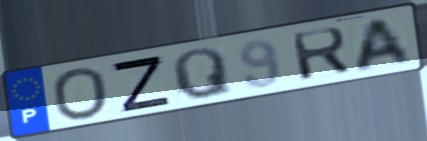9: (237, 38, 283, 90)
A: (353, 15, 415, 75)
O: (49, 65, 111, 122)
Q: (169, 46, 235, 102)
R: (288, 25, 353, 83)
Z: (108, 53, 174, 114)
